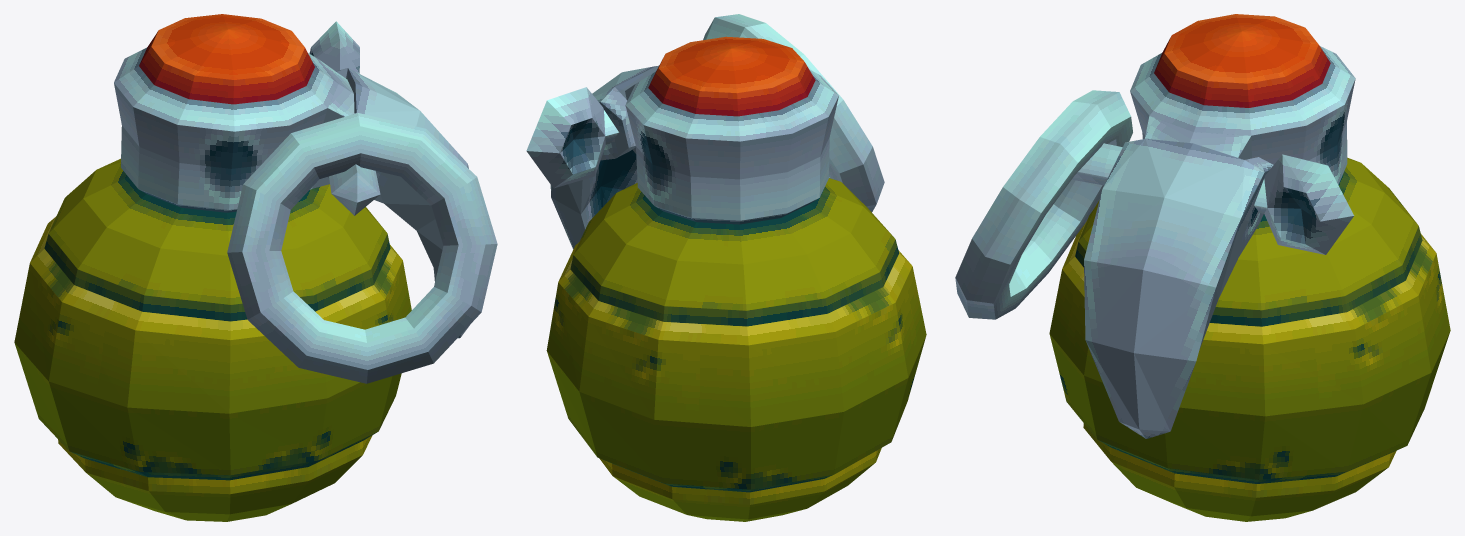
File: Grenade.obj
The picture shows the model from 3 angles, left to right: view 1: azimuth 30°, elevation 25°; view 2: azimuth 150°, elevation 25°; view 3: azimuth 270°, elevation 25°; orthographic projection. The views are drawn at different scales.
Parts seen in each view (by area): view 1: Inst3D_RefRep.240; view 2: Inst3D_RefRep.240; view 3: Inst3D_RefRep.240.
Boxes of the visible parts, x1=… form: Inst3D_RefRep.240: x1=14, y1=14, x2=497, y2=521; Inst3D_RefRep.240: x1=526, y1=14, x2=926, y2=521; Inst3D_RefRep.240: x1=955, y1=14, x2=1450, y2=521.
Size of the model in its own units: 2.62 by 2.99 by 2.83.
